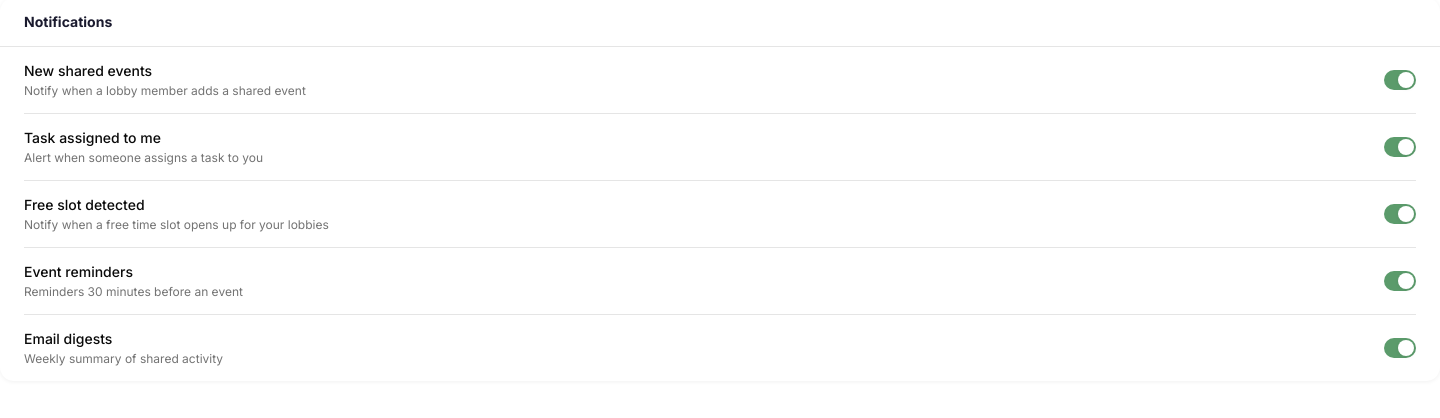
Scenario: NotificationsCard › rolls back the toggle and shows an inline error on failure
Click the switch named "New shared events" at (1400, 80), box [1384,70,1416,90]
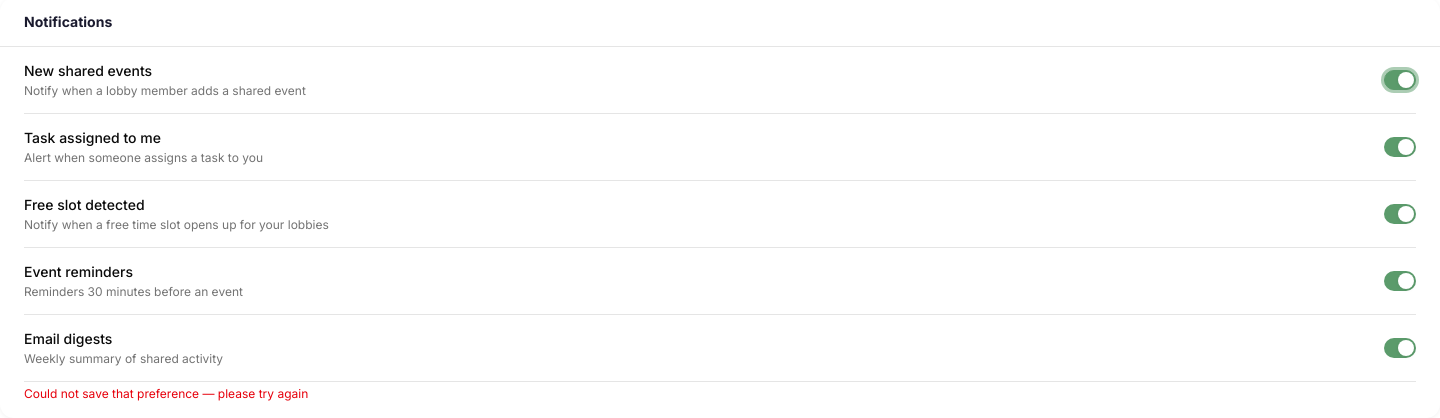
Expected: the message reads "Could not save that preference — please try again", [24,386,308,401]
